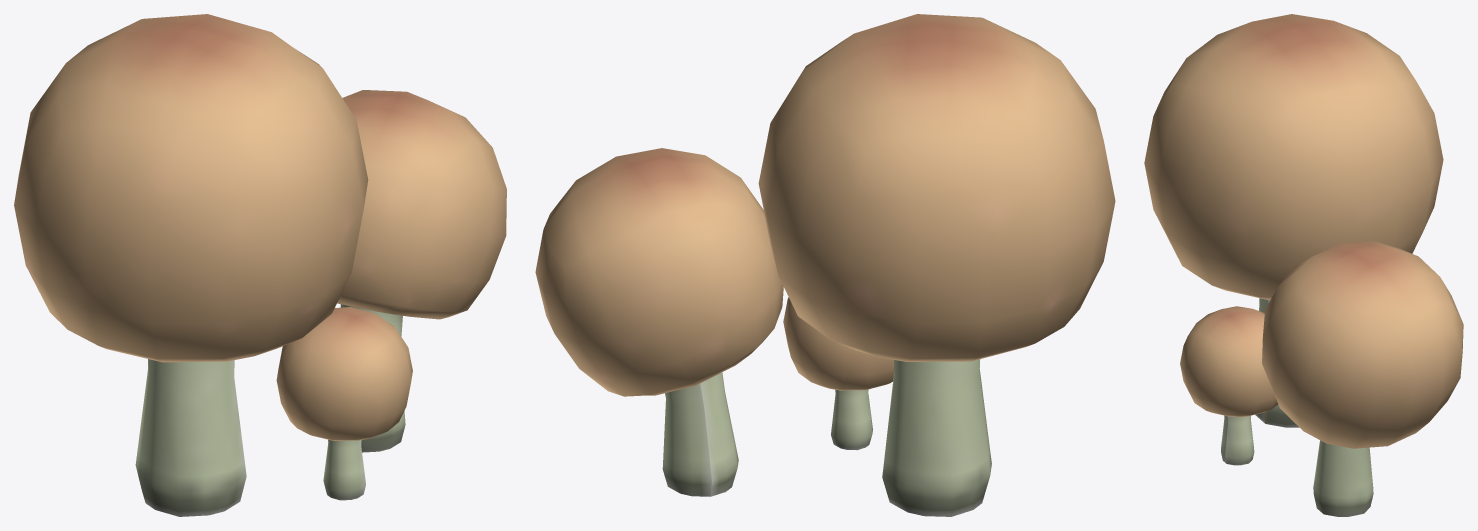
Rendered from houba_pecarka.glb.
The picture shows the model from 3 angles, left to right: view 1: azimuth 30°, elevation 25°; view 2: azimuth 150°, elevation 25°; view 3: azimuth 270°, elevation 25°; orthographic projection. The views are drawn at different scales.
Parts seen in each view (by area): view 1: houba_pecarka; view 2: houba_pecarka; view 3: houba_pecarka.
Part boxes in pixels (x1,y1,x2,y2): houba_pecarka: [14, 14, 506, 516]; houba_pecarka: [535, 14, 1115, 516]; houba_pecarka: [1144, 14, 1463, 516].
Bounding box in the file's own units: 0.109 × 0.0998 × 0.0734.
Materials: 1 (1 with a texture image).
